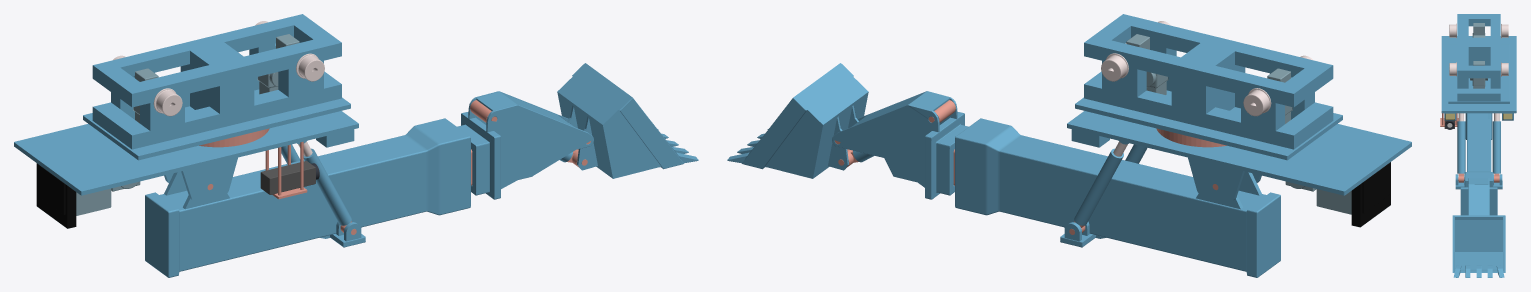
Rendered from Excavator.fbx.
3 views of the same model, side by side, from view 1: azimuth 30°, elevation 25°; view 2: azimuth 150°, elevation 25°; view 3: azimuth 270°, elevation 25° (orthographic). The views are drawn at different scales.
Parts seen in each view (by area): view 1: Cube.004, Frame, Plate, Bucket, Vert.004, Plate.001, HydraulicPump, Cube.003, Cube.017, Vert.001, Body, Vert.009 (+7 smaller); view 2: Cube.004, Frame, Plate, Bucket, Vert.003, Plate.001, HydraulicPump, Cube.003, Cube.018, Vert.002, Vert.010, Vert.004 (+6 smaller); view 3: Frame, Bucket, Plate, Cube.004, Plate.001, Vert.003, Cube.003, Vert.009, Vert.010, MotorFrontGearBox, Vert.004, MotorRearGearBox (+15 smaller).
Part boxes in pixels (box(x1,y1,x2,y2)): Cube.004: box(145, 118, 470, 277); Frame: box(92, 14, 341, 149); Plate: box(14, 111, 358, 195); Bucket: box(557, 63, 680, 178); Vert.004: box(476, 92, 593, 188); Plate.001: box(83, 89, 350, 160); HydraulicPump: box(36, 163, 111, 228); Cube.003: box(457, 112, 500, 199); Cube.017: box(181, 157, 237, 202); Vert.001: box(619, 97, 683, 169); Body: box(260, 161, 315, 194); Vert.009: box(303, 148, 351, 225); Cube.004: box(955, 118, 1280, 277); Frame: box(1084, 14, 1333, 149); Plate: box(1067, 111, 1411, 195); Bucket: box(745, 63, 868, 178); Vert.003: box(832, 92, 939, 187); Plate.001: box(1075, 90, 1342, 160); HydraulicPump: box(1316, 162, 1390, 227); Cube.003: box(925, 112, 968, 199); Cube.018: box(1188, 157, 1244, 202); Vert.002: box(742, 97, 806, 169); Vert.010: box(1074, 148, 1123, 225); Vert.004: box(857, 91, 957, 124); Frame: box(1457, 14, 1500, 101); Bucket: box(1454, 215, 1504, 272); Plate: box(1441, 36, 1516, 113); Cube.004: box(1464, 113, 1493, 187); Plate.001: box(1448, 44, 1509, 103); Vert.003: box(1469, 178, 1489, 215); Cube.003: box(1460, 187, 1497, 215); Vert.009: box(1457, 121, 1465, 173); Vert.010: box(1492, 121, 1500, 173); MotorFrontGearBox: box(1472, 61, 1485, 88); Vert.004: box(1468, 178, 1488, 215); MotorRearGearBox: box(1472, 23, 1485, 37).
Bounding box in the file's own units: 435 × 135 × 82.3.
